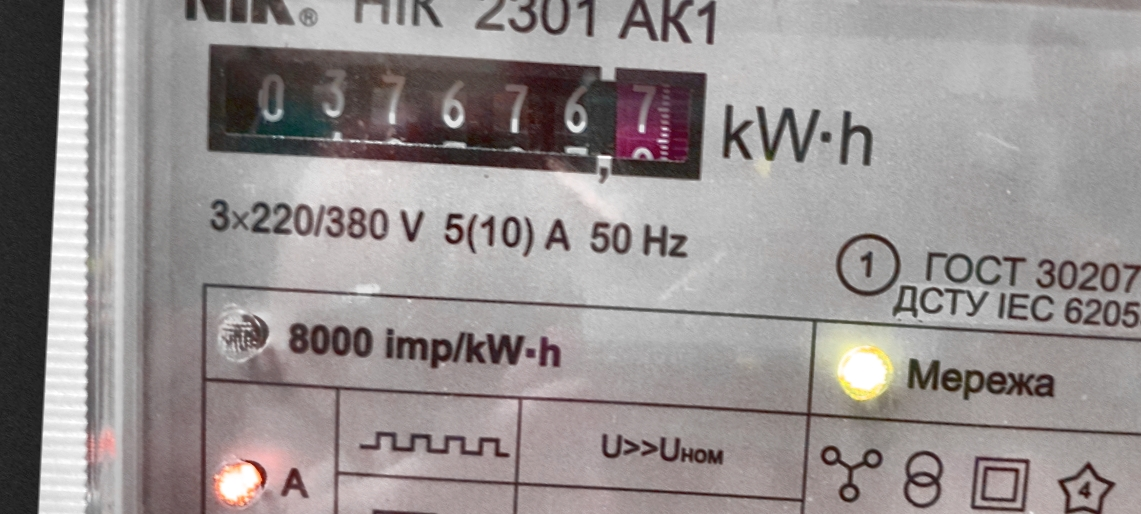0: (254, 68, 290, 124)
3: (317, 63, 348, 120)
6: (436, 74, 470, 129), (559, 80, 592, 136)
7: (497, 79, 531, 138), (375, 69, 408, 127), (627, 79, 658, 136)
screen: (187, 26, 723, 198)
